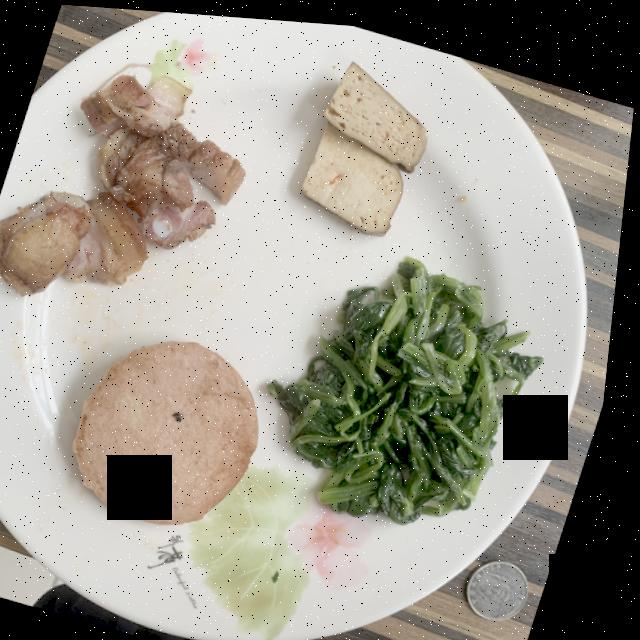Spam: (82, 338, 267, 521)
coin: (478, 552, 540, 612)
firm tofu: (304, 56, 429, 229)
grilled pork: (0, 72, 248, 294)
mustard greens: (276, 251, 549, 517)
